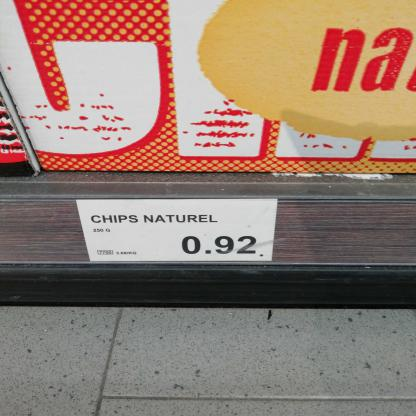prtg: (77, 200, 280, 263)
